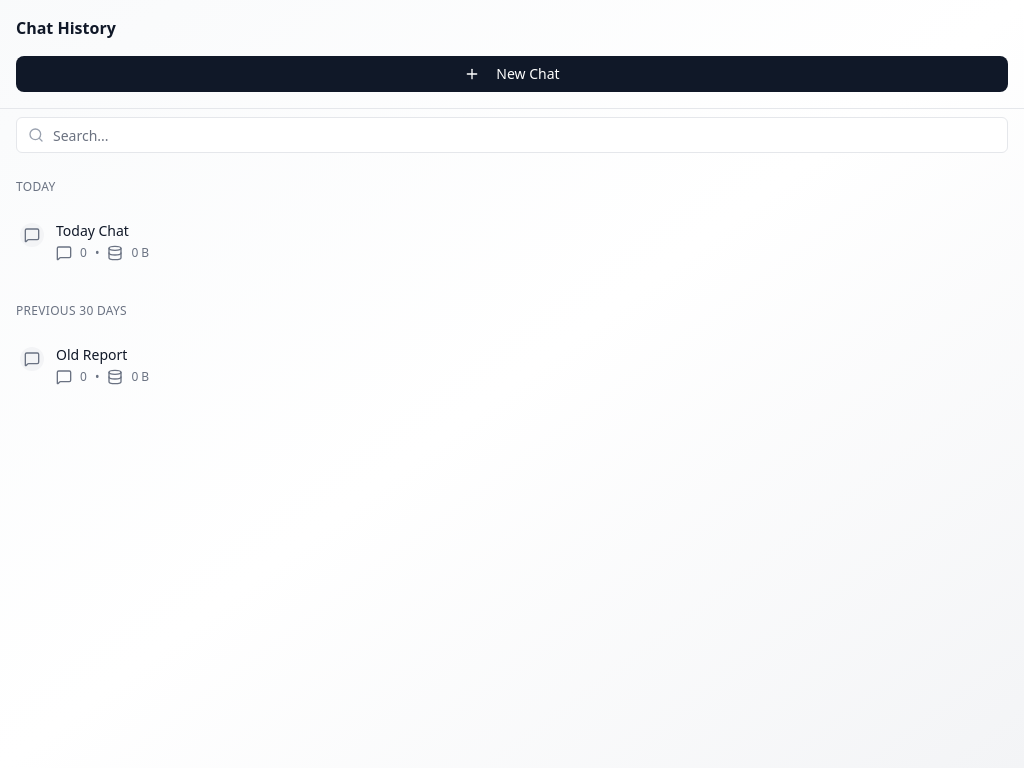
Test: ChatSidebar Component › search filters conversations
The width and height of the screenshot is (1024, 768).
Type "report" into the field with placeholder "Search...".
click(512, 135); type("report")  # box [16,117,1008,153]
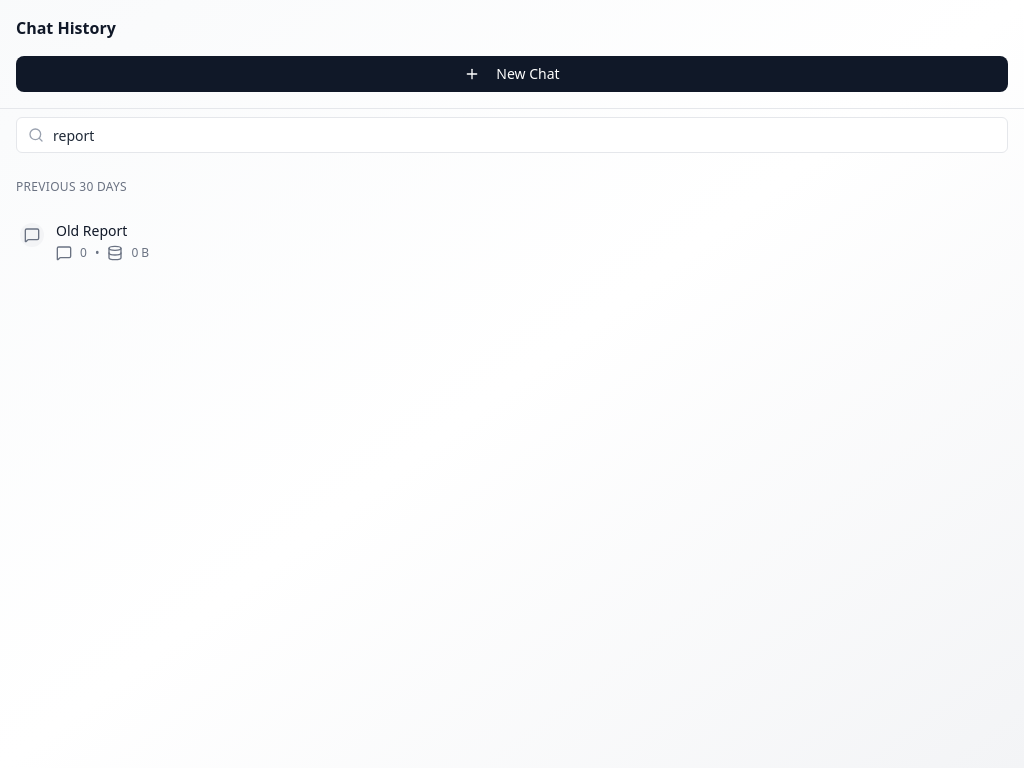
Expected: the text "Old Report" is shown, [56,221,127,241]
Expected: the button "Today Chat" is gone
